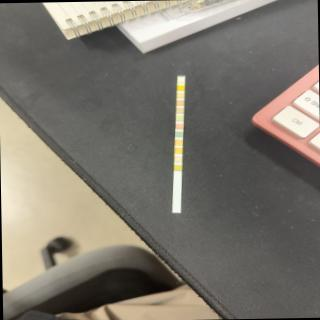mark: (174, 164, 182, 170), (174, 156, 182, 162), (174, 147, 182, 153), (174, 139, 182, 145), (176, 100, 184, 106), (176, 92, 184, 98), (175, 131, 182, 137), (176, 122, 183, 128), (176, 114, 183, 120), (176, 108, 183, 114), (177, 85, 184, 90), (177, 77, 184, 82)
